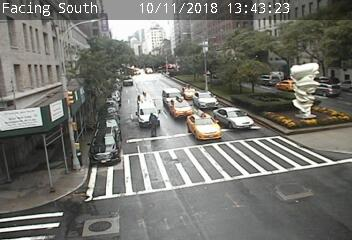car: (89, 127, 120, 165), (187, 113, 222, 141), (213, 107, 254, 129), (137, 102, 160, 127), (167, 99, 194, 118), (308, 83, 340, 98), (193, 91, 218, 109), (163, 88, 184, 109), (255, 74, 280, 86), (276, 79, 300, 91), (137, 93, 153, 109), (181, 86, 198, 100)
